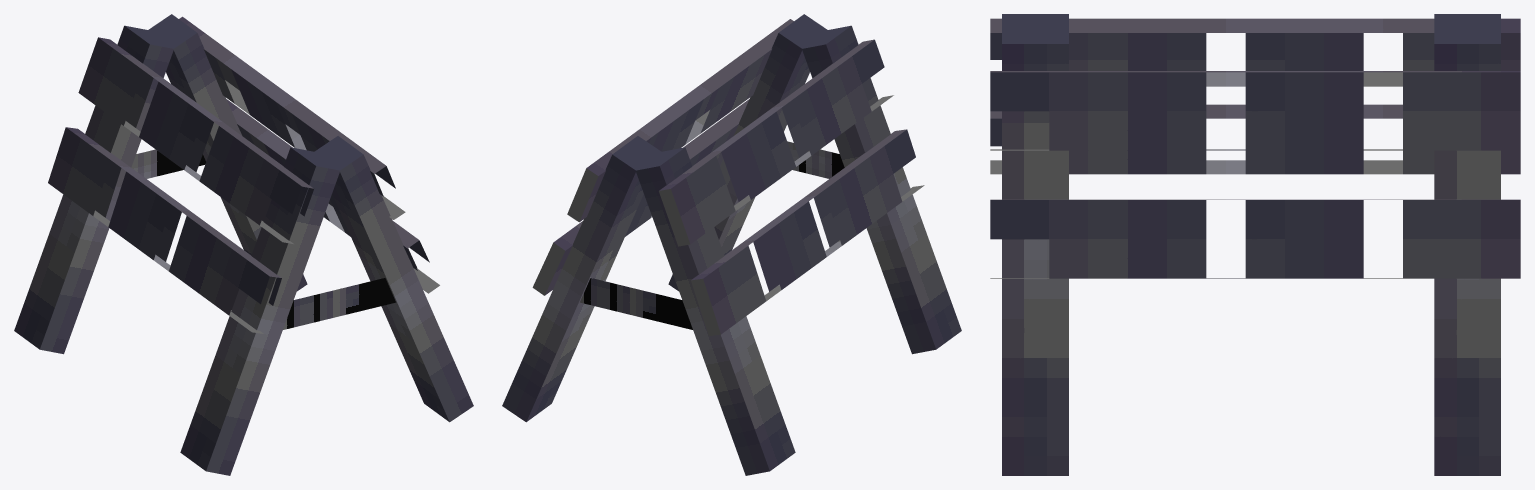
The model's file is repair-fencing.obj.
The picture shows the model from 3 angles, left to right: view 1: azimuth 30°, elevation 25°; view 2: azimuth 150°, elevation 25°; view 3: azimuth 270°, elevation 25°; orthographic projection. The views are drawn at different scales.
Parts seen in each view (by area): view 1: obj2, obj6, obj5, obj4, obj1, obj8, obj3, obj9, obj7, obj14; view 2: obj6, obj5, obj1, obj3, obj2, obj8, obj4, obj7, obj14, obj9; view 3: obj8, obj7, obj4, obj6, obj3, obj5, obj1, obj2.
Part boxes in pixels (bbox=[...]): obj2: bbox=[180, 147, 339, 475]; obj6: bbox=[78, 37, 313, 244]; obj5: bbox=[48, 127, 281, 333]; obj4: bbox=[314, 136, 473, 422]; obj1: bbox=[14, 25, 173, 354]; obj8: bbox=[179, 16, 405, 219]; obj3: bbox=[148, 14, 307, 291]; obj9: bbox=[283, 278, 395, 329]; obj7: bbox=[226, 99, 439, 293]; obj14: bbox=[131, 149, 205, 178]; obj6: bbox=[659, 39, 893, 246]; obj5: bbox=[691, 129, 924, 336]; obj1: bbox=[636, 147, 795, 475]; obj3: bbox=[502, 136, 661, 422]; obj2: bbox=[802, 25, 961, 354]; obj8: bbox=[567, 19, 793, 222]; obj4: bbox=[668, 14, 827, 291]; obj7: bbox=[532, 99, 749, 295]; obj14: bbox=[580, 278, 692, 329]; obj9: bbox=[787, 141, 844, 178]; obj8: bbox=[990, 71, 1520, 150]; obj7: bbox=[990, 199, 1520, 278]; obj4: bbox=[1002, 42, 1068, 475]; obj6: bbox=[990, 18, 1520, 86]; obj3: bbox=[1434, 42, 1500, 475]; obj5: bbox=[990, 104, 1520, 174]; obj1: bbox=[1434, 14, 1500, 42]; obj2: bbox=[1002, 14, 1068, 42].
Size of the model in its own units: 0.6396 by 0.6591 by 0.8438.
Materials: 4 (3 with a texture image).
